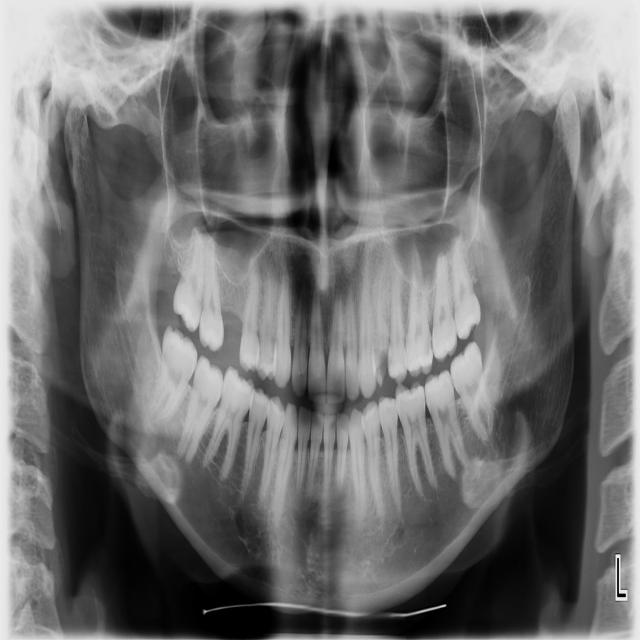mandibula: (70, 91, 583, 615)
